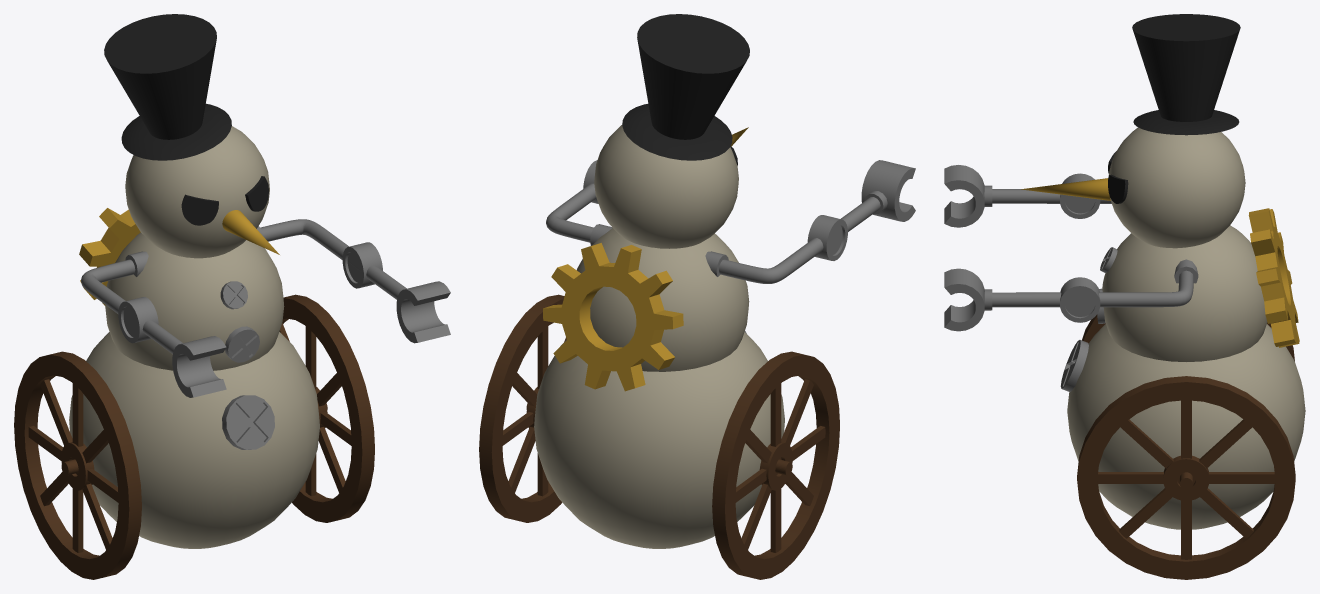
Rendered from Padrao.fbx.
3 views of the same model, side by side, from view 1: azimuth 30°, elevation 25°; view 2: azimuth 150°, elevation 25°; view 3: azimuth 270°, elevation 25° (orthographic). The views are drawn at different scales.
Visible parts, largest first — view 1: Base.001, Rodas.001, Corpo.002, Cartola, cabeça, Maos, Braços.002, Juntas, Botão2.001, Engrenagem, Botão1.002, Olhos.001 (+1 smaller); view 2: Base.001, Rodas.001, Cartola, Corpo.002, cabeça, Engrenagem, Braços.002, Maos, Juntas; view 3: Base.001, Rodas.001, Corpo.002, cabeça, Cartola, Braços.002, Engrenagem, Maos, Juntas, Cone, Botão2.001, Olhos.001.
Part boxes in pixels (x1,y1,x2,y2): Base.001: (69, 332, 319, 548); Rodas.001: (14, 294, 374, 579); Corpo.002: (105, 232, 284, 370); Cartola: (104, 14, 231, 160); cabeça: (125, 126, 269, 258); Maos: (172, 281, 450, 397); Braços.002: (81, 219, 406, 354); Juntas: (118, 242, 382, 343); Botão2.001: (222, 395, 274, 449); Engrenagem: (79, 208, 140, 305); Botão1.002: (220, 281, 259, 362); Olhos.001: (181, 176, 268, 225); Base.001: (534, 332, 784, 548); Rodas.001: (479, 294, 839, 579); Cartola: (622, 14, 749, 160); Corpo.002: (577, 228, 749, 371); cabeça: (594, 125, 738, 248); Engrenagem: (543, 243, 683, 391); Braços.002: (546, 183, 887, 283); Maos: (861, 160, 915, 221); Juntas: (583, 160, 847, 260); Base.001: (1067, 324, 1305, 529); Rodas.001: (1077, 314, 1295, 579); Corpo.002: (1102, 225, 1267, 361); cabeça: (1109, 127, 1245, 248); Cartola: (1132, 14, 1240, 135); Braços.002: (984, 185, 1198, 310); Engrenagem: (1248, 208, 1299, 347); Maos: (944, 165, 984, 331); Juntas: (1060, 173, 1100, 322); Cone: (1021, 178, 1110, 200); Botão2.001: (1060, 340, 1088, 391); Olhos.001: (1108, 151, 1128, 203).
Bounding box in the file's own units: 115 × 219 × 147.
